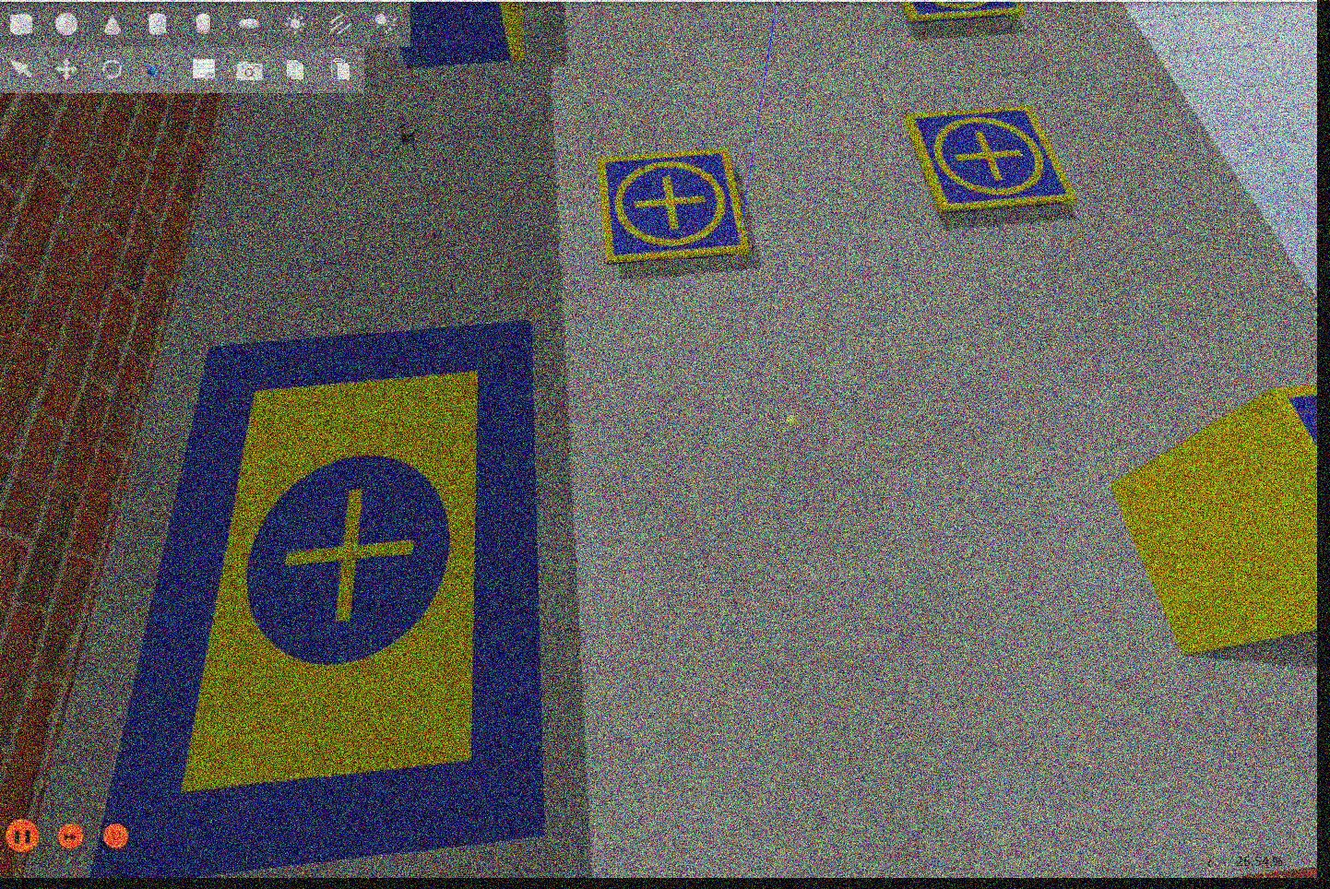large_base: (91, 319, 552, 876)
small_base: (909, 108, 1079, 221), (595, 151, 752, 271)
